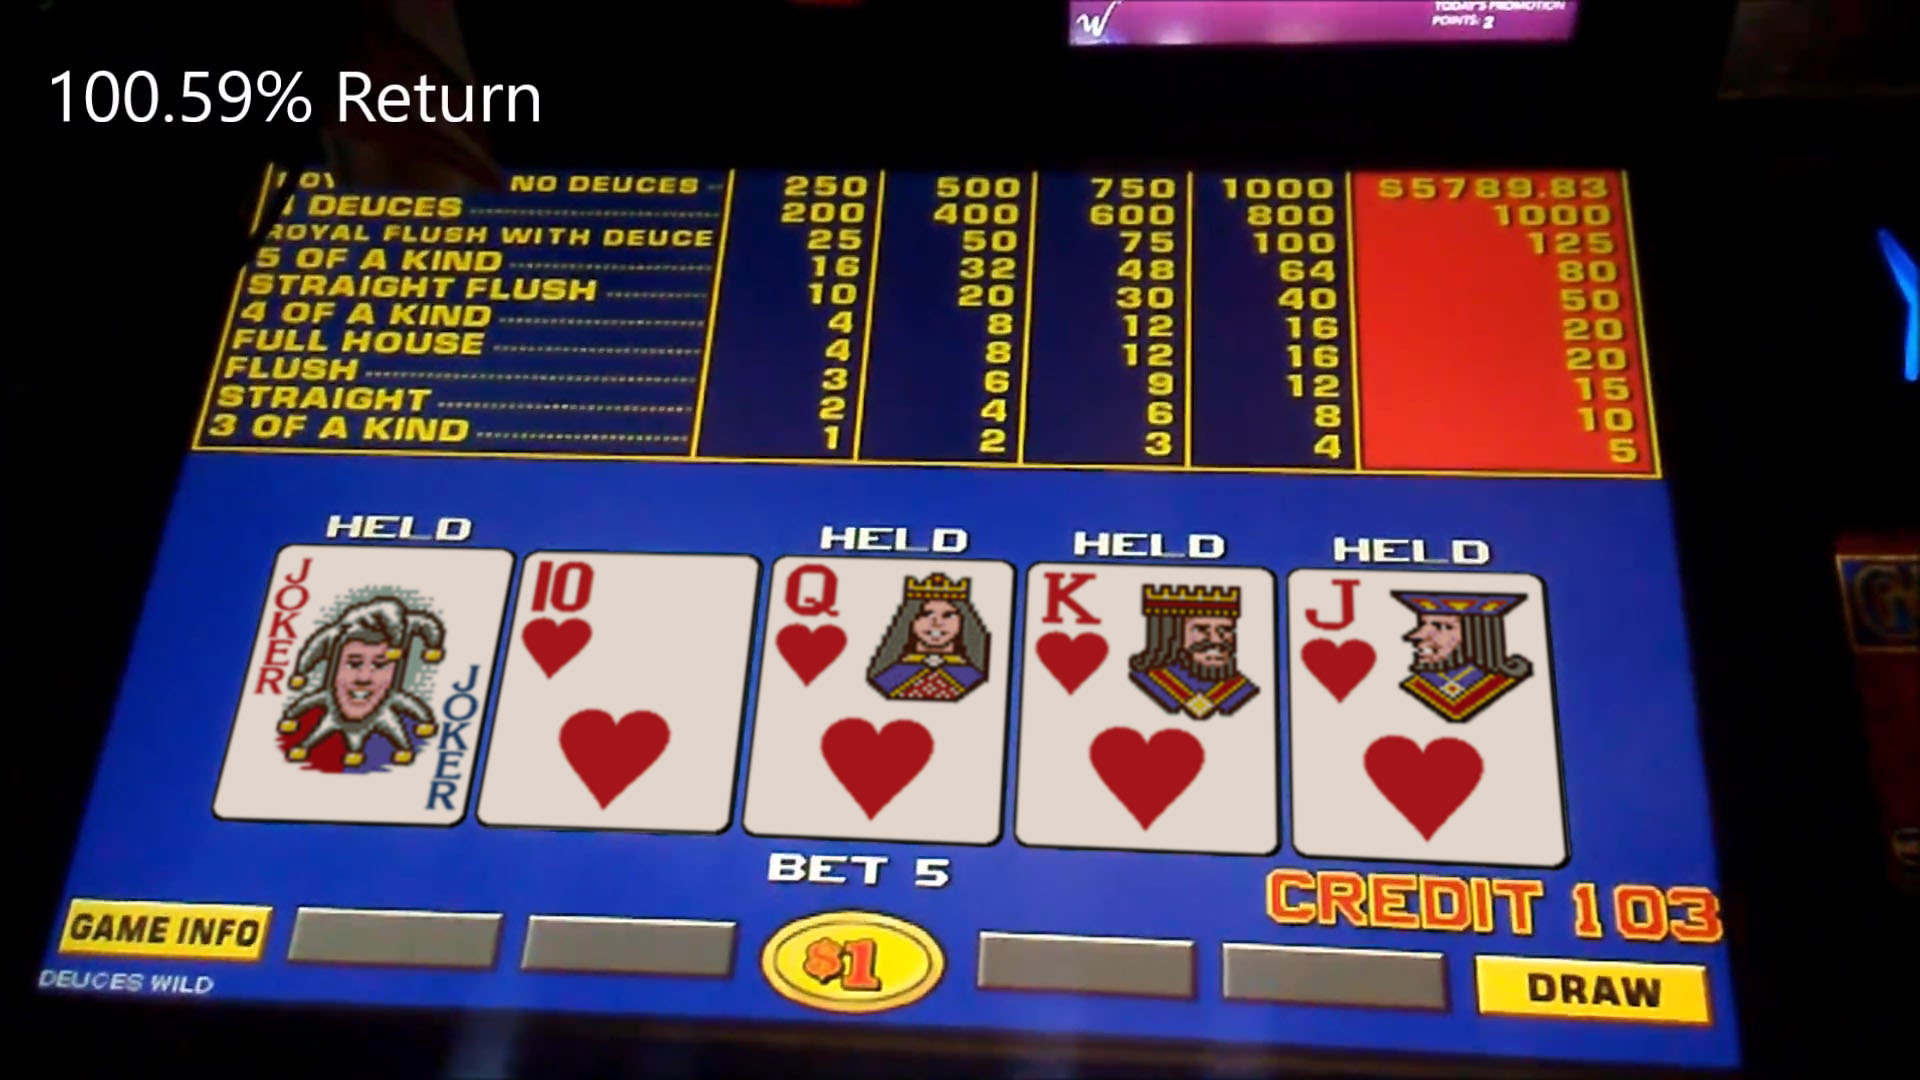HJ: (1294, 575, 1540, 707)
HK: (1027, 566, 1270, 704)
HQ: (771, 558, 1007, 696)
HT: (520, 553, 745, 688)
joker: (265, 549, 491, 684)
